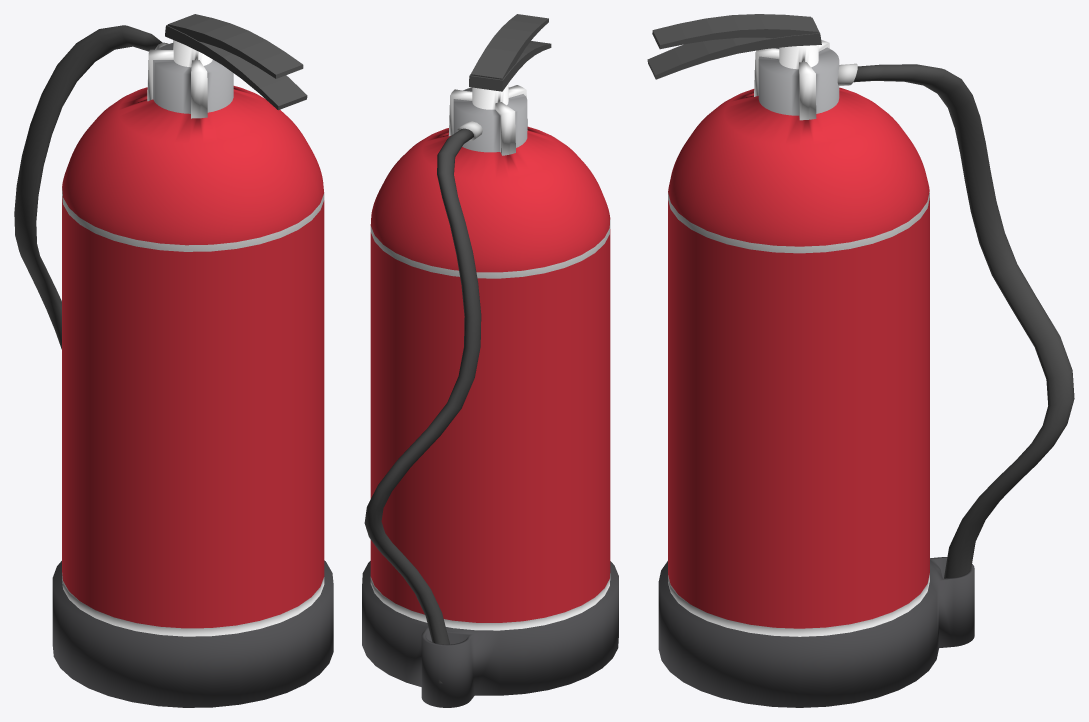
Rendered from pemadam.fbx.
3 views of the same model, side by side, from view 1: azimuth 30°, elevation 25°; view 2: azimuth 150°, elevation 25°; view 3: azimuth 270°, elevation 25° (orthographic). The views are drawn at different scales.
Visible parts, largest first — view 1: Cylinder.013, BezierCurve, Cylinder.011, Cylinder.012; view 2: Cylinder.013, BezierCurve, Cylinder.011, Cylinder.012; view 3: Cylinder.013, BezierCurve, Cylinder.011, Cylinder.012.
Boxes of the visible parts, bbox=[...] form: Cylinder.013: bbox=[52, 40, 333, 707]; BezierCurve: bbox=[14, 25, 168, 349]; Cylinder.011: bbox=[167, 14, 303, 78]; Cylinder.012: bbox=[165, 25, 307, 110]; Cylinder.013: bbox=[362, 83, 618, 707]; BezierCurve: bbox=[364, 121, 482, 683]; Cylinder.011: bbox=[470, 14, 548, 79]; Cylinder.012: bbox=[469, 41, 551, 91]; Cylinder.013: bbox=[658, 40, 974, 707]; BezierCurve: bbox=[837, 63, 1074, 578]; Cylinder.011: bbox=[652, 14, 818, 49]; Cylinder.012: bbox=[647, 17, 821, 79].
Size of the model in its own units: 30.82 by 76.53 by 46.93.
